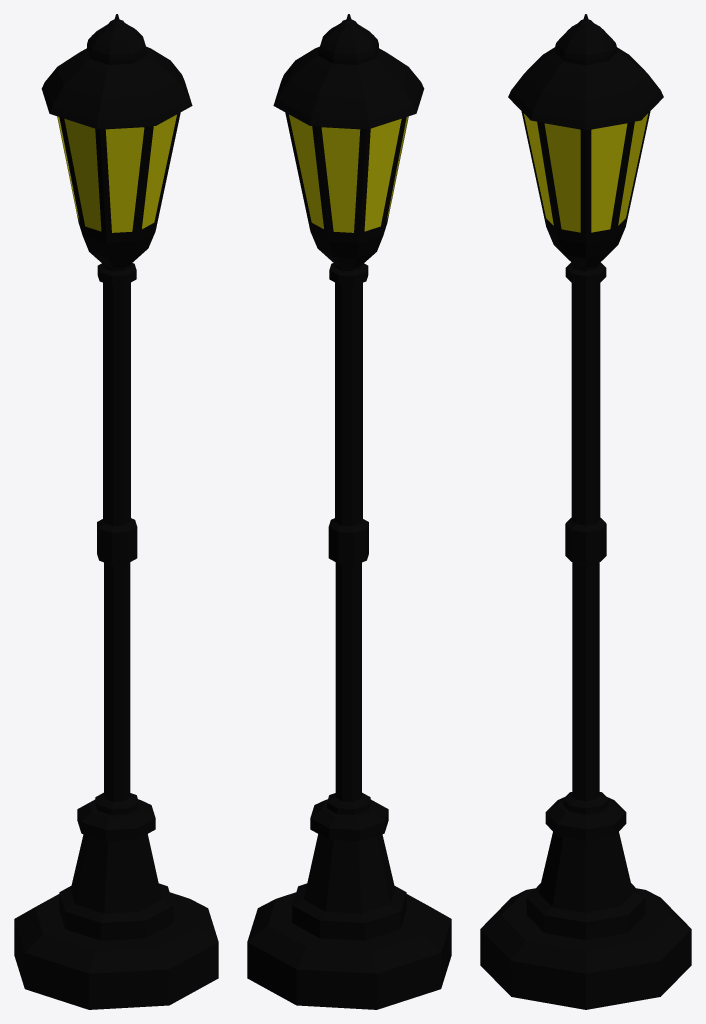
The model's file is streetLamp.obj.
The picture shows the model from 3 angles, left to right: view 1: azimuth 30°, elevation 25°; view 2: azimuth 150°, elevation 25°; view 3: azimuth 270°, elevation 25°; orthographic projection.
Visible parts, largest first — view 1: Base_Of_Street_Lamp_B_Circle.001, Top__Of_Street_Lamp_B_Circle.003, _Light_Area_Of_Street_lamp_B_Circle.002; view 2: Base_Of_Street_Lamp_B_Circle.001, Top__Of_Street_Lamp_B_Circle.003, _Light_Area_Of_Street_lamp_B_Circle.002; view 3: Base_Of_Street_Lamp_B_Circle.001, Top__Of_Street_Lamp_B_Circle.003, _Light_Area_Of_Street_lamp_B_Circle.002.
Boxes of the visible parts, x1,y1,x2,y2 form: Base_Of_Street_Lamp_B_Circle.001: (14,112,218,1009); Top__Of_Street_Lamp_B_Circle.003: (41,14,192,128); _Light_Area_Of_Street_lamp_B_Circle.002: (57,114,176,232); Base_Of_Street_Lamp_B_Circle.001: (247,112,451,1009); Top__Of_Street_Lamp_B_Circle.003: (273,14,424,128); _Light_Area_Of_Street_lamp_B_Circle.002: (289,114,408,232); Base_Of_Street_Lamp_B_Circle.001: (480,111,691,1009); Top__Of_Street_Lamp_B_Circle.003: (508,14,663,129); _Light_Area_Of_Street_lamp_B_Circle.002: (523,113,648,232).
Size of the model in its own units: 1.35 by 6.7 by 1.35.
